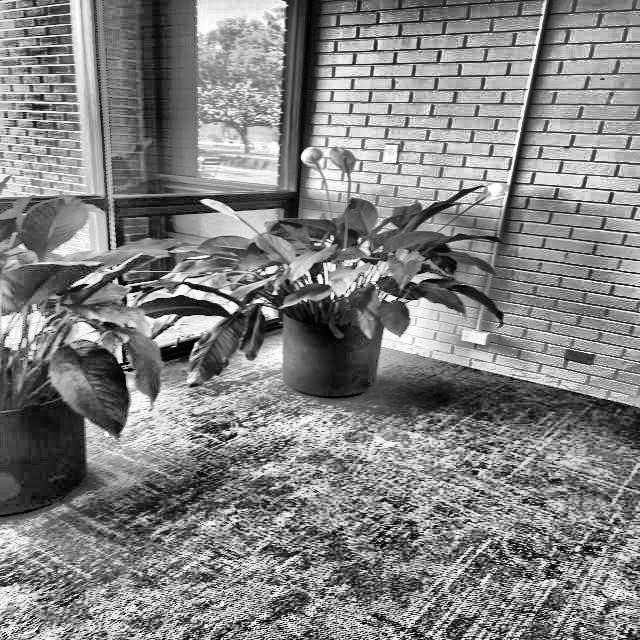plants: (0, 207, 213, 434), (208, 196, 472, 331)
